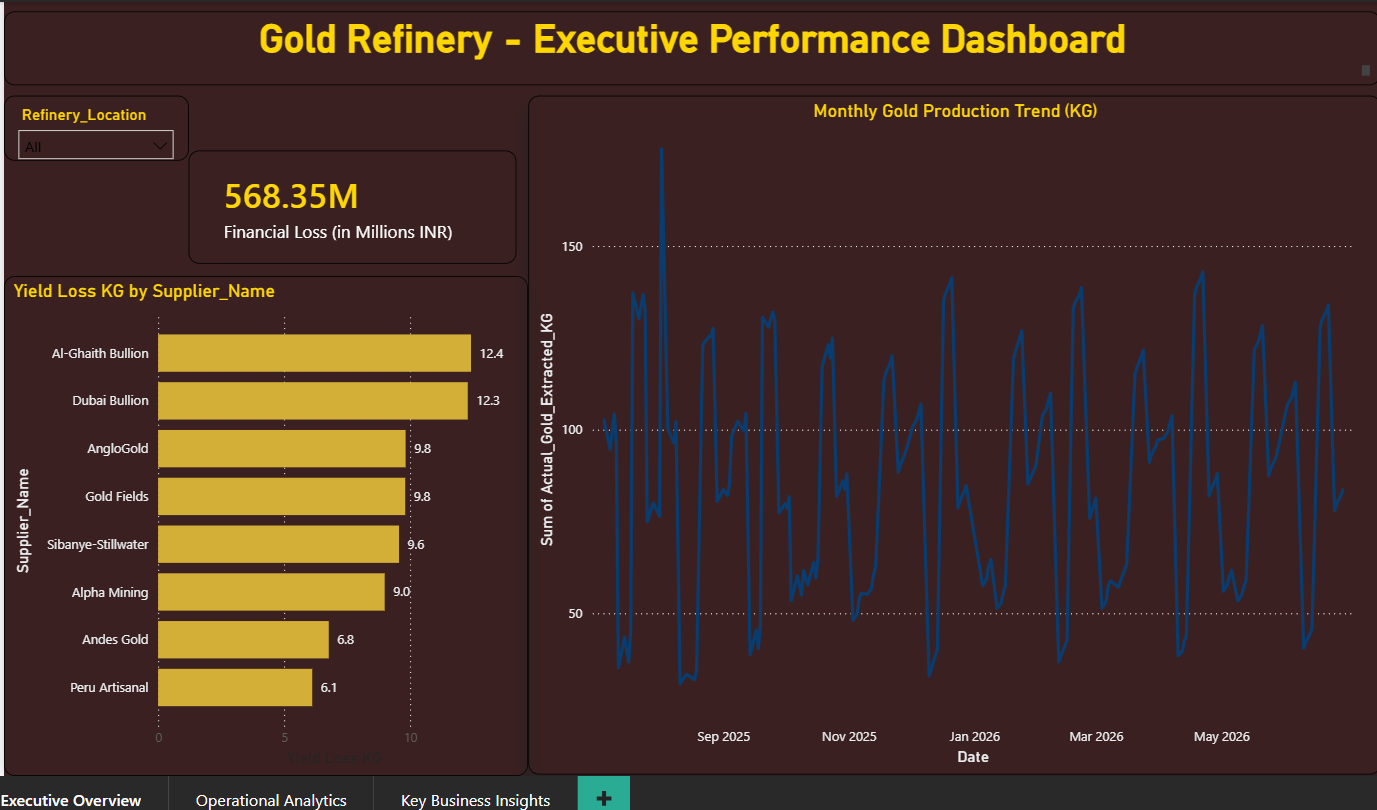

The dashboard page shown, as its layout file describes it:
{"tool":"powerbi","page":{"name":"Executive Overview","canvas":[1280,720],"ordinal":0},"visuals":[{"type":"cardVisual","fields":{"Data":["MDO_GOLD_REFINERY_DATA.Financial Loss INR"]},"box":[171.8,138.8,305.3,105.7],"z":0},{"type":"clusteredBarChart","fields":{"Category":["MDO_GOLD_REFINERY_DATA.Supplier_Name"],"Y":["MDO_GOLD_REFINERY_DATA.Yield Loss KG"]},"box":[0,255.1,487.7,465.2],"z":1000},{"type":"lineChart","title":"Monthly Gold Production Trend (KG)","fields":{"Y":["Sum(MDO_GOLD_REFINERY_DATA.Actual_Gold_Extracted_KG)"],"Category":["MDO_GOLD_REFINERY_DATA.Date"]},"box":[487.7,87.2,793,631.7],"z":2000},{"type":"slicer","fields":{"Values":["MDO_GOLD_REFINERY_DATA.Refinery_Location"]},"box":[0,87.2,171.8,60.8],"z":3000},{"type":"textbox","title":"Gold Refinery - Executive Performance Dashboard","box":[0,9.3,1280.6,68.7],"z":4000}]}

Visuals, with their boxes on the page's 1280x720 design canvas (x1, y1, x2, y2). These are canvas units, not pixel positions in the 1377x810 screenshot, which may show the page scaled, cropped or inside an application window:
cardVisual - MDO_GOLD_REFINERY_DATA.Financial Loss INR: box(172, 139, 477, 244)
clusteredBarChart - MDO_GOLD_REFINERY_DATA.Supplier_Name x MDO_GOLD_REFINERY_DATA.Yield Loss KG: box(0, 255, 488, 720)
"Monthly Gold Production Trend (KG)" lineChart: box(488, 87, 1281, 719)
slicer - MDO_GOLD_REFINERY_DATA.Refinery_Location: box(0, 87, 172, 148)
"Gold Refinery - Executive Performance Dashboard" textbox: box(0, 9, 1281, 78)
